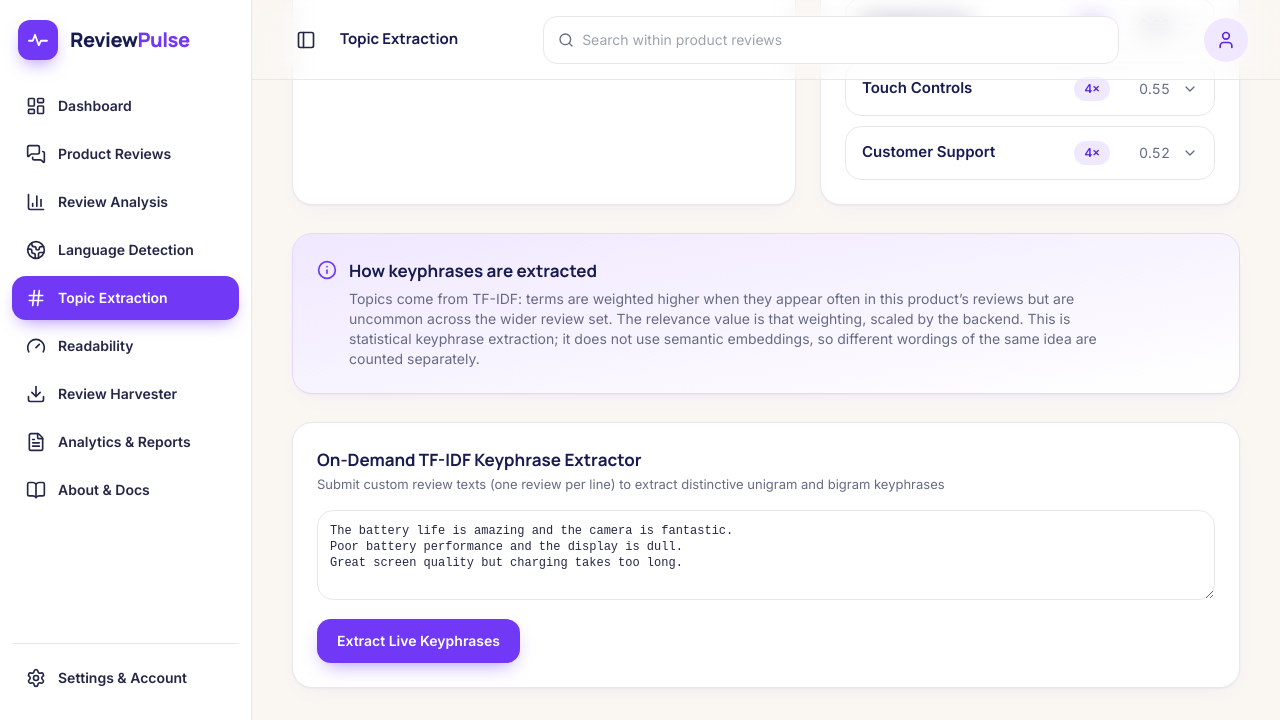
Test case: Interactive On-Demand Tool Integrations › TOPIC-05: executes TF-IDF topic extractor on user corpus
This screenshot has width=1280, height=720.
(page scrolled)
Click the button "Extract Live Keyphrases" at x=418, y=640, box [317,618,520,662]
(page scrolled)
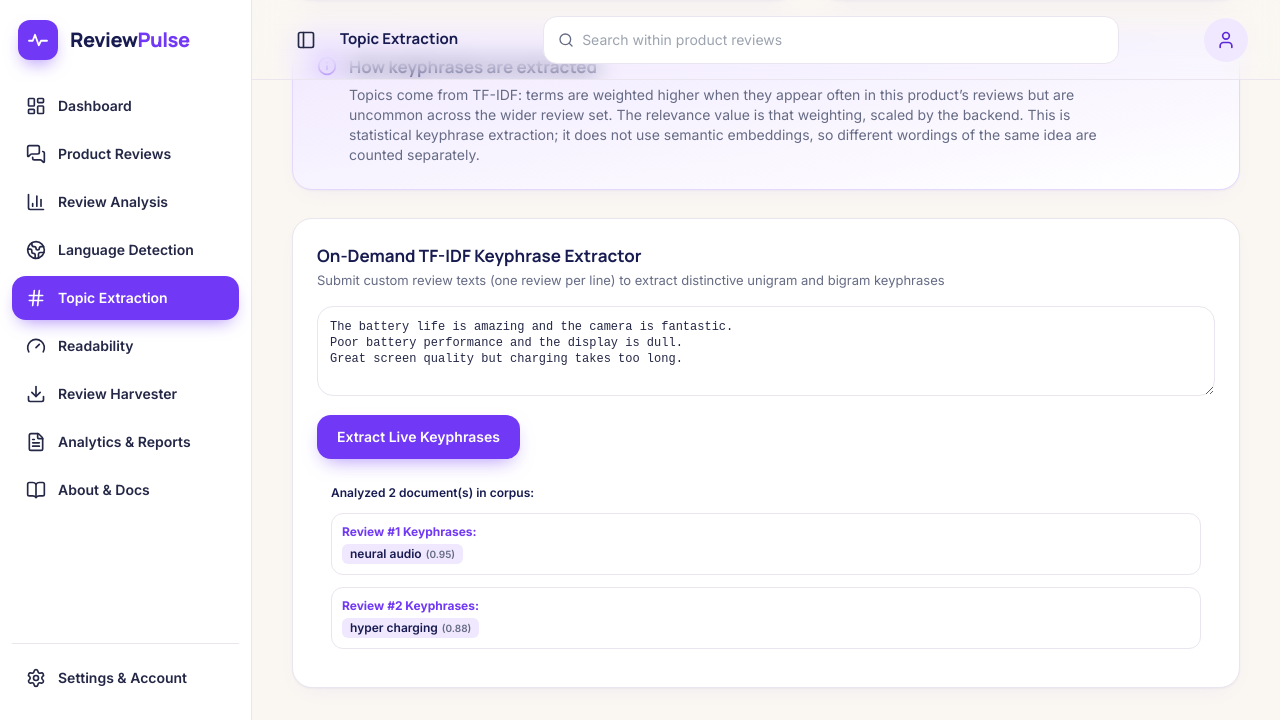
Result: the text "Analyzed 2 document(s) in corpus:" is shown at [331,484,534,500]
Result: the text "neural audio" is shown at [350,546,422,560]
Result: the text "(0.95)" is shown at [426,546,455,562]
